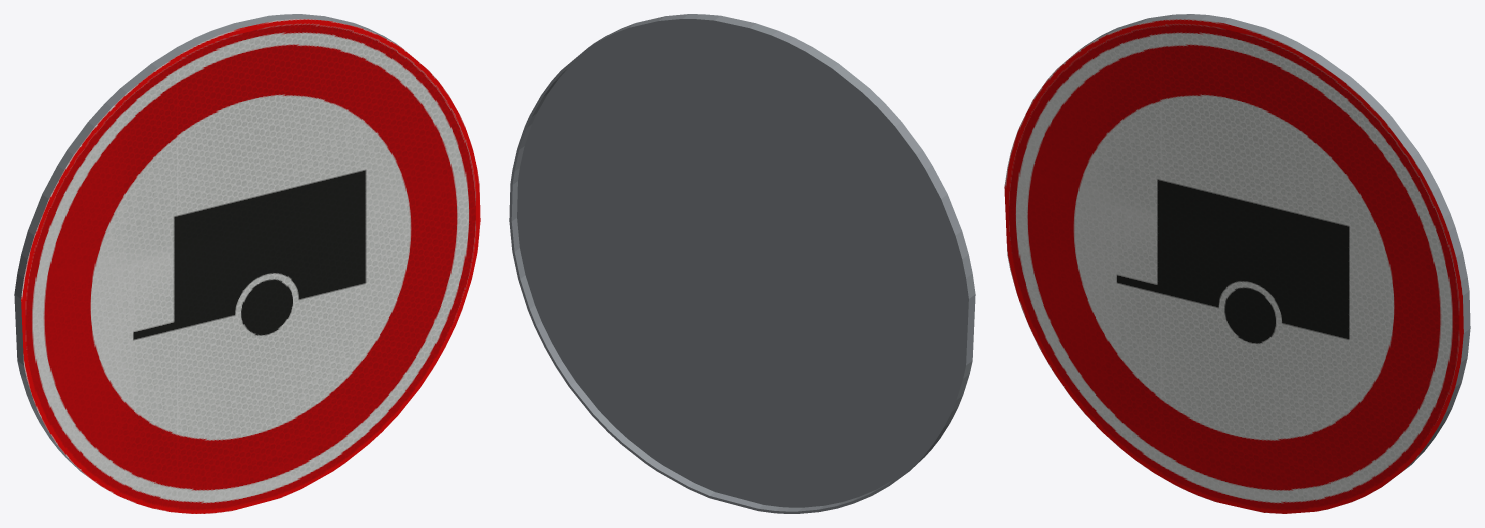
The picture shows the model from 3 angles, left to right: view 1: azimuth 30°, elevation 25°; view 2: azimuth 150°, elevation 25°; view 3: azimuth 330°, elevation 25°; orthographic projection.
Visible parts, largest first — view 1: cat_a232c610110f8eed; view 2: cat_a232c610110f8eed; view 3: cat_a232c610110f8eed.
Part boxes in pixels (<box>): cat_a232c610110f8eed: <box>14,14,480,513</box>; cat_a232c610110f8eed: <box>509,14,975,513</box>; cat_a232c610110f8eed: <box>1004,14,1470,513</box>.
Bounding box in the file's own units: 0.6 × 0.015 × 0.6.
Materials: 2 (1 with a texture image).
